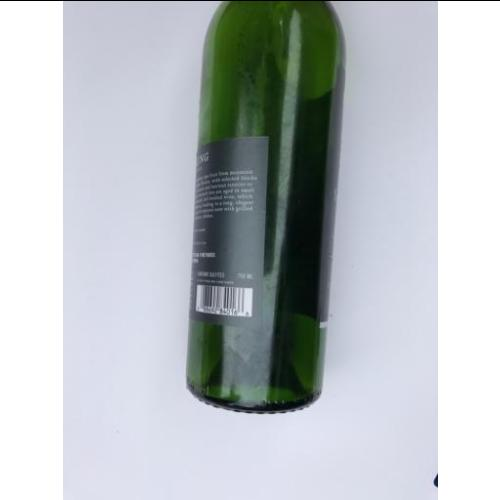glass: (185, 1, 343, 409)
